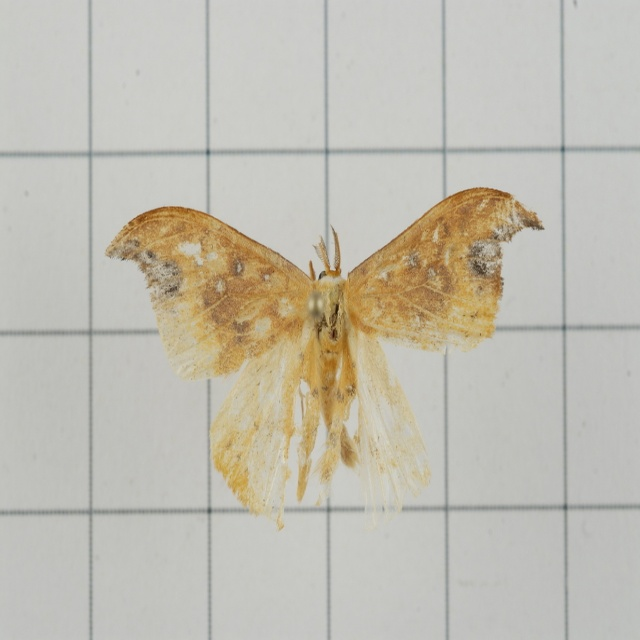Butterfly: (106, 183, 532, 545)
